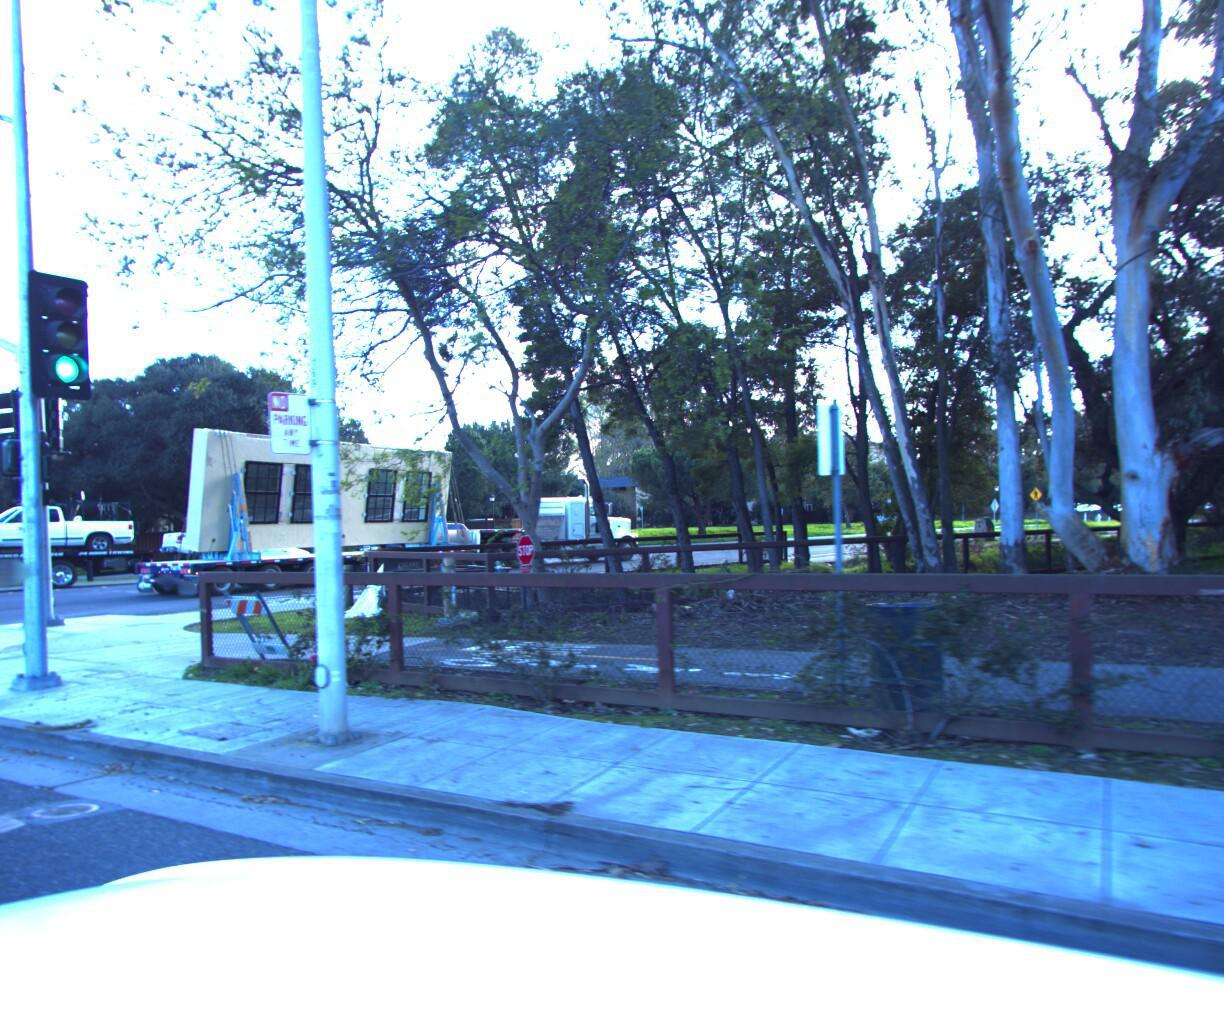car: (161, 516, 316, 578), (0, 495, 143, 553), (345, 514, 481, 565)
other_vehicle: (123, 404, 559, 590)
truck: (0, 492, 179, 600), (495, 487, 642, 561)
